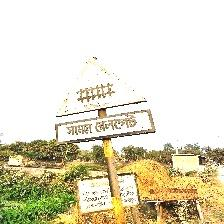Rail-crossing: (55, 59, 154, 145)
